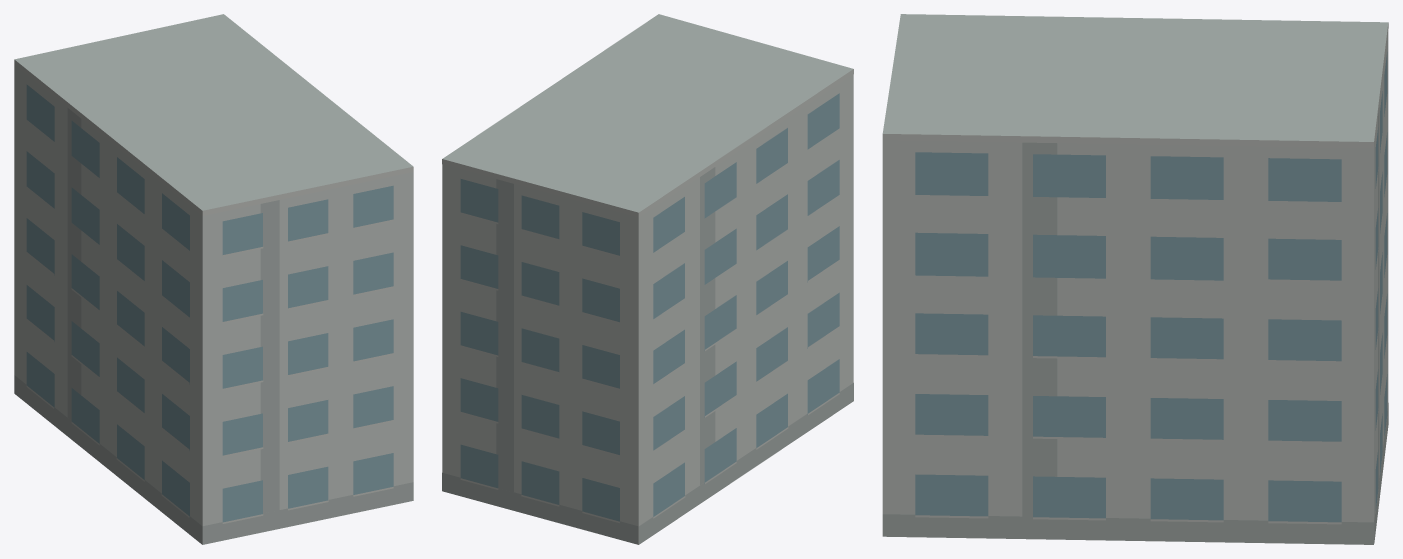
Rendered from survey-upis-32922216.glb.
3 views of the same model, side by side, from view 1: azimuth 30°, elevation 25°; view 2: azimuth 150°, elevation 25°; view 3: azimuth 270°, elevation 25° (orthographic). The views are drawn at different scales.
Visible parts, largest first — view 1: survey-upis-32922216.tmp; view 2: survey-upis-32922216.tmp; view 3: survey-upis-32922216.tmp.
Part boxes in pixels (x1,y1,x2,y2): survey-upis-32922216.tmp: [14, 14, 413, 544]; survey-upis-32922216.tmp: [442, 14, 853, 544]; survey-upis-32922216.tmp: [882, 14, 1388, 544].
Size of the model in its own units: 10.44 by 15.3 by 17.42.
